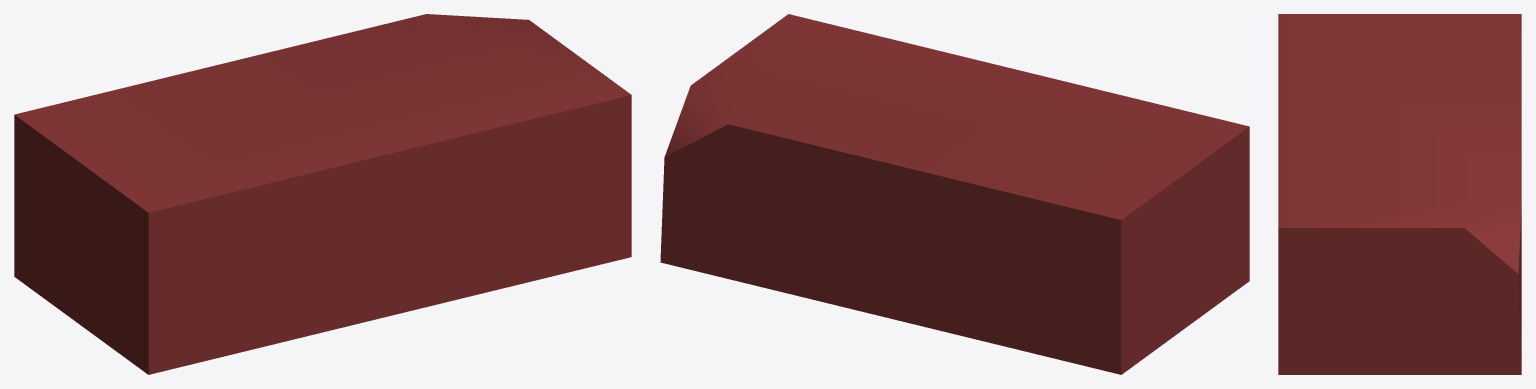
File: SM_Brick03.fbx
The picture shows the model from 3 angles, left to right: view 1: azimuth 30°, elevation 25°; view 2: azimuth 150°, elevation 25°; view 3: azimuth 270°, elevation 25°; orthographic projection. The views are drawn at different scales.
Parts seen in each view (by area): view 1: Brick03; view 2: Brick03; view 3: Brick03.
Boxes of the visible parts, x1,y1,x2,y2 form: Brick03: [14, 14, 631, 374]; Brick03: [660, 14, 1249, 374]; Brick03: [1278, 14, 1521, 374].
Size of the model in its own units: 25.03 by 8.03 by 12.04.
